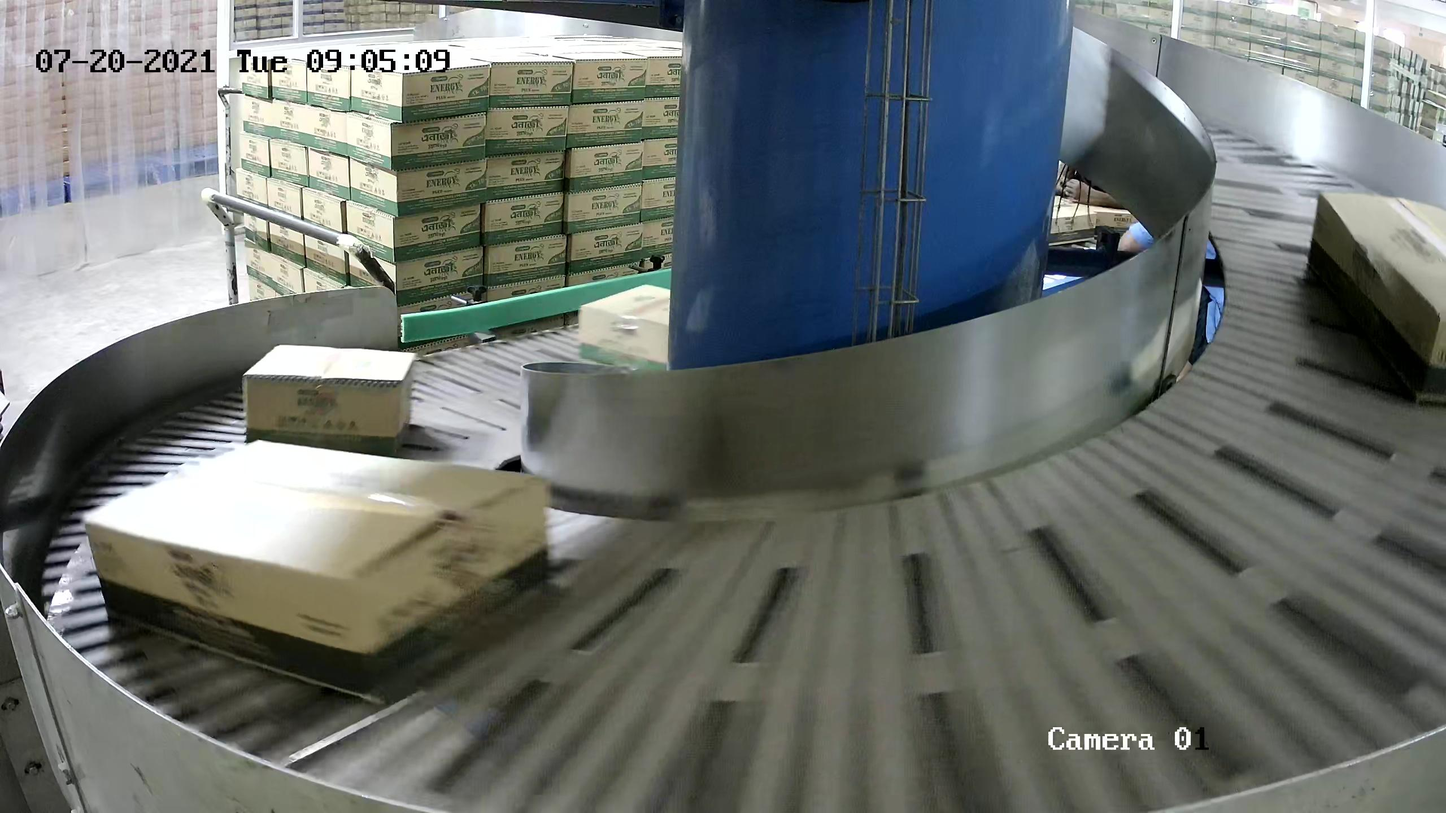Box: (82, 438, 554, 705), (1306, 189, 1446, 425), (241, 343, 416, 460), (576, 282, 715, 383)
